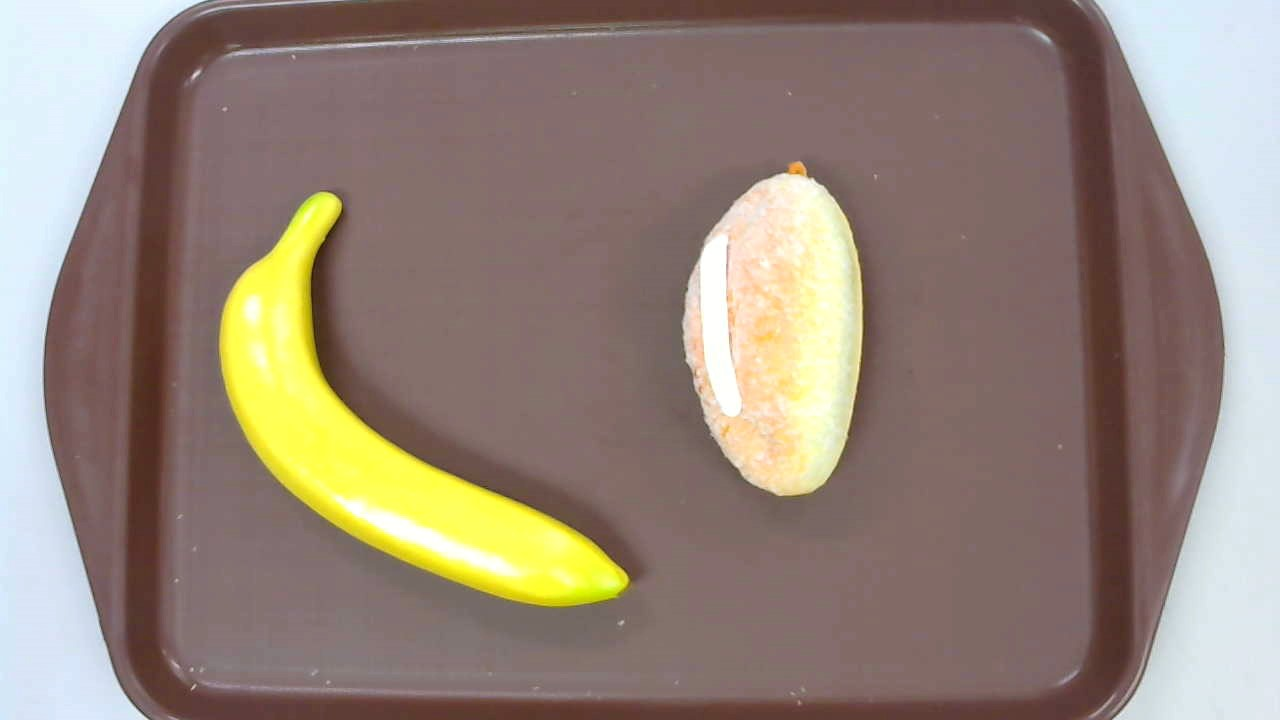banana: (218, 191, 628, 607)
coconut: (681, 159, 862, 500)
